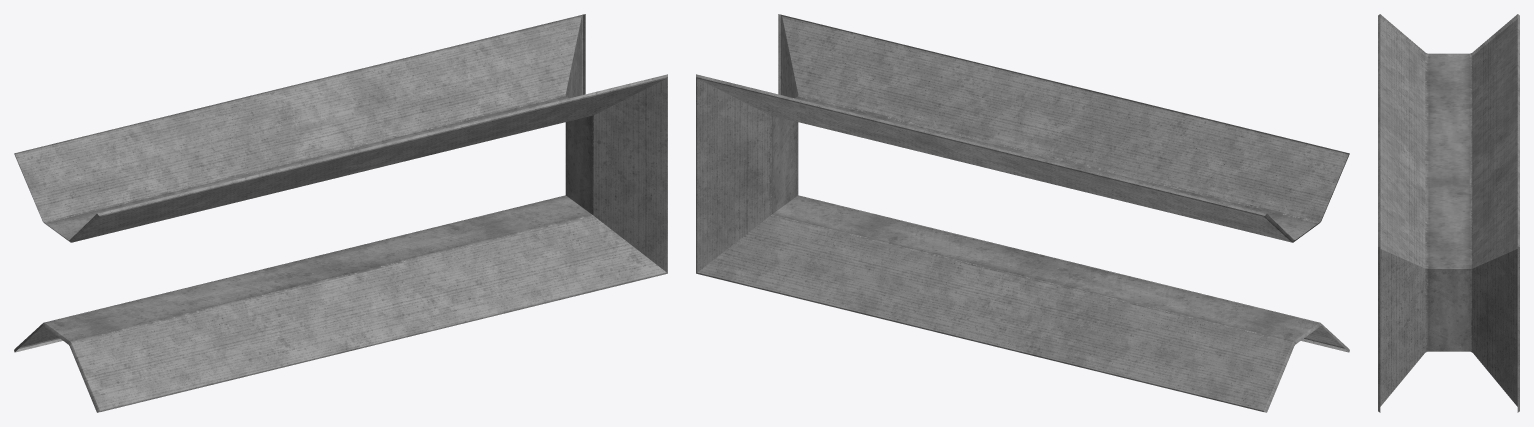
The model's file is SM_Opening_02.fbx.
3 renders of one model, left to right at view 1: azimuth 30°, elevation 25°; view 2: azimuth 150°, elevation 25°; view 3: azimuth 270°, elevation 25°, orthographic. The views are drawn at different scales.
Visible parts, largest first — view 1: SM_Opening_02; view 2: SM_Opening_02; view 3: SM_Opening_02.
Boxes of the visible parts, x1=… form: SM_Opening_02: x1=14, y1=14, x2=667, y2=412; SM_Opening_02: x1=696, y1=14, x2=1349, y2=412; SM_Opening_02: x1=1378, y1=14, x2=1519, y2=412.
Bounding box in the file's own units: 400 × 134 × 103.
